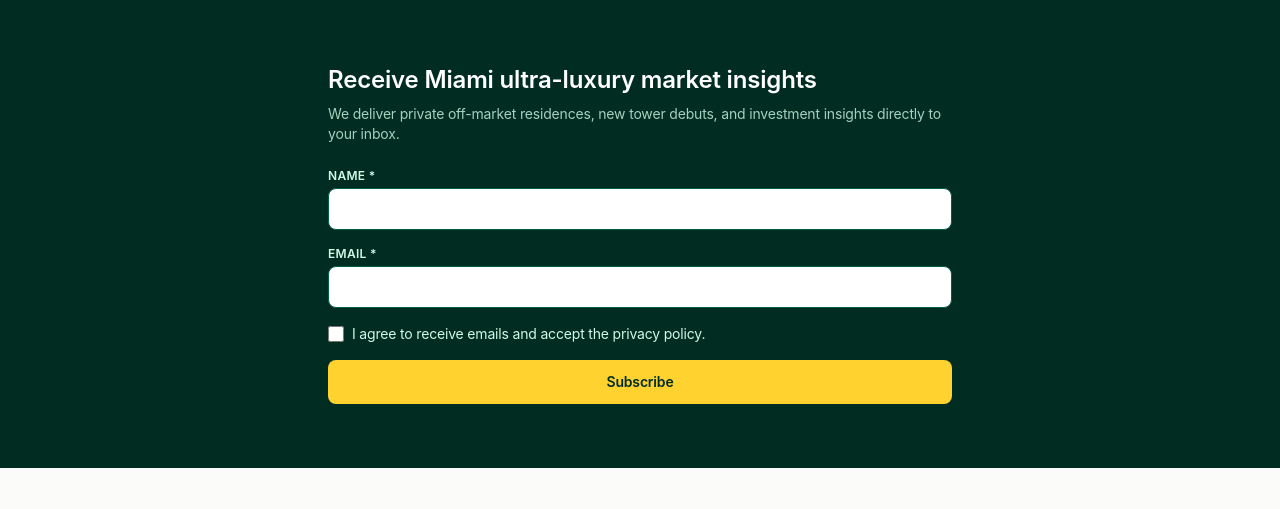
Test: NewsletterForm › rejects an invalid email
Type "Ana" into the field labelled "Name *". click: coordinates (640, 209)
box: [328,188,952,230]
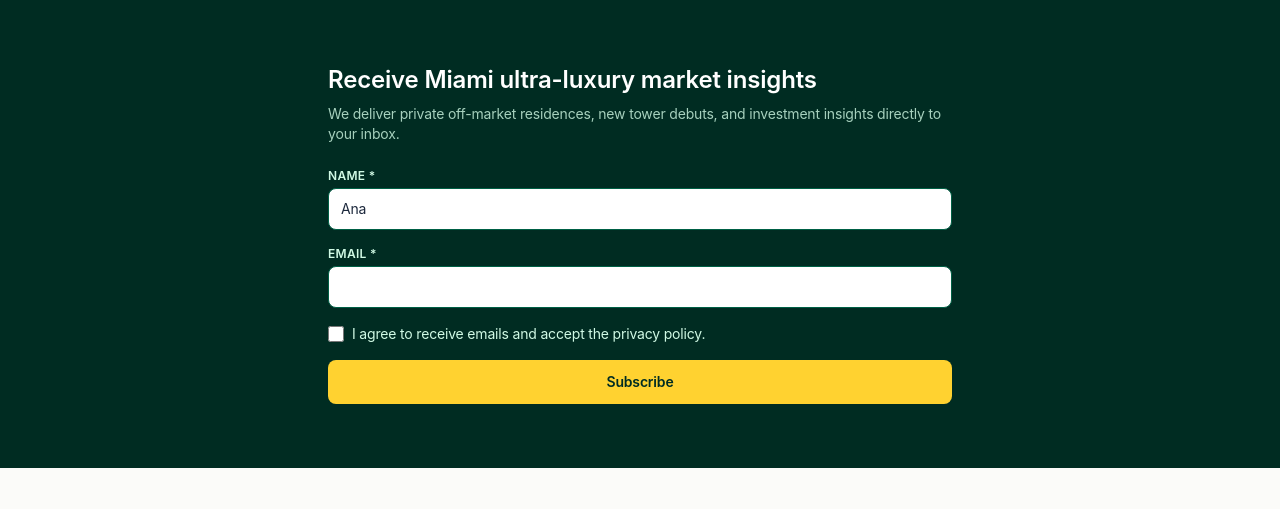
Type "not-an-email" into the field labelled "Email *". click: coordinates (640, 287)
box: [328,266,952,308]
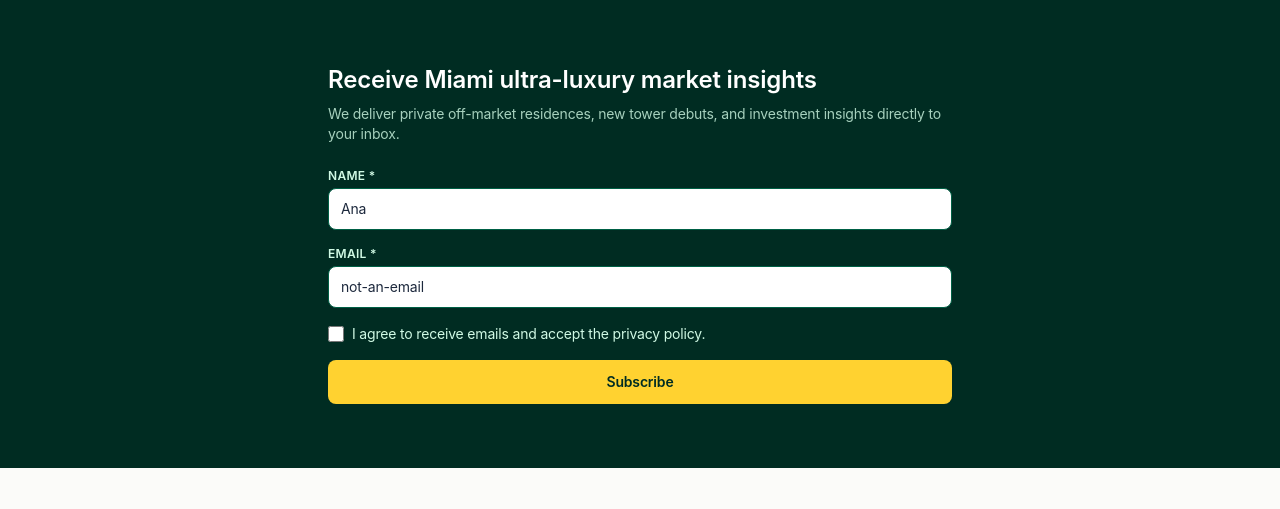
Click the checkbox. click: coordinates (336, 334)
box: [328,326,344,342]
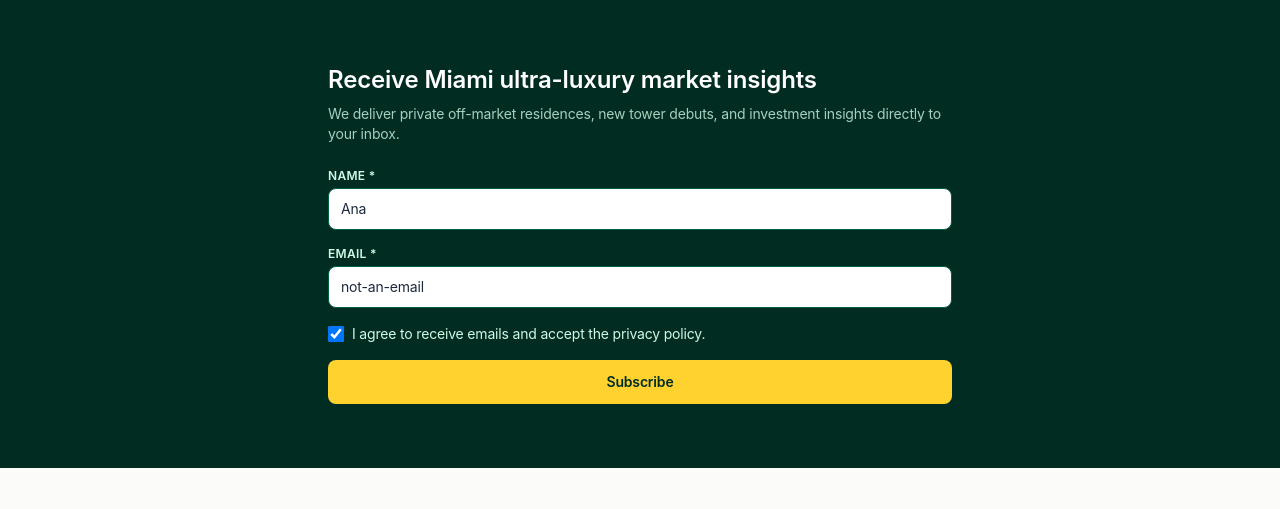
Click the button "Subscribe". click: coordinates (640, 382)
box: [328,360,952,404]
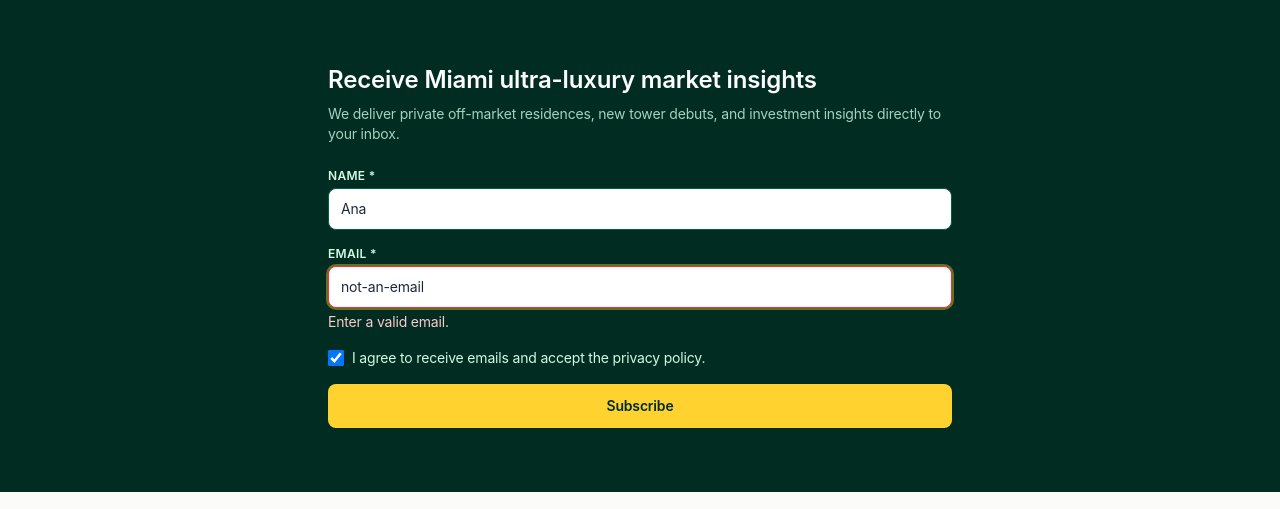
Result: the text "Enter a valid email." is shown at [328,313,449,330]
